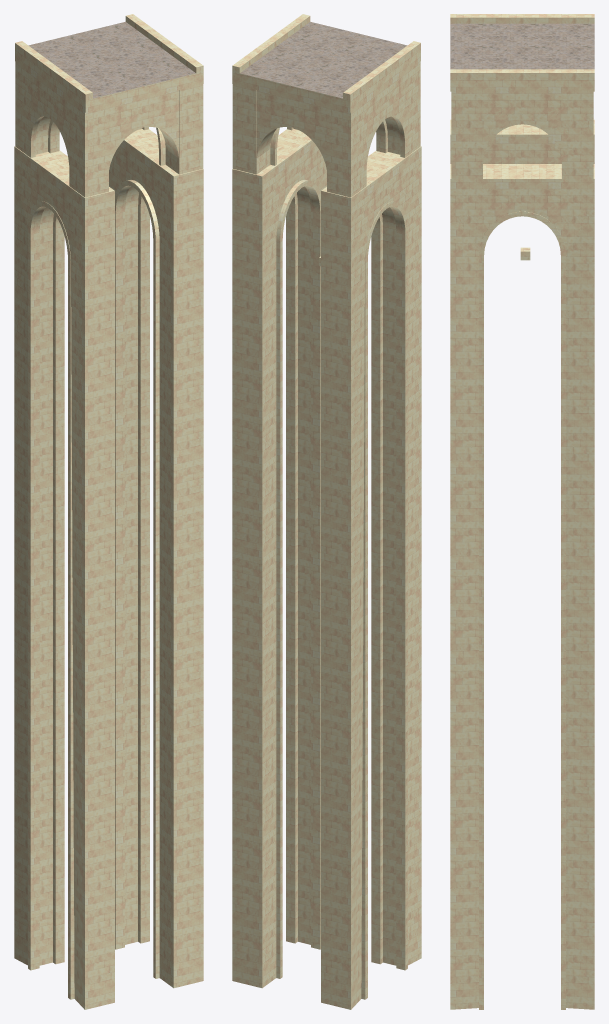
The model's file is SM_bridge_module.glb.
3 renders of one model, left to right at view 1: azimuth 30°, elevation 25°; view 2: azimuth 150°, elevation 25°; view 3: azimuth 270°, elevation 25°, orthographic. The views are drawn at different scales.
Visible parts, largest first — view 1: SM_bridge_module; view 2: SM_bridge_module; view 3: SM_bridge_module.
Part boxes in pixels (left/top/right/bottom): SM_bridge_module: left=14, top=14, right=203, bottom=1009; SM_bridge_module: left=232, top=14, right=421, bottom=1009; SM_bridge_module: left=450, top=14, right=594, bottom=1009.
Size of the model in its own units: 10.74 by 78.71 by 11.01.
Materials: 2 (2 with a texture image).
